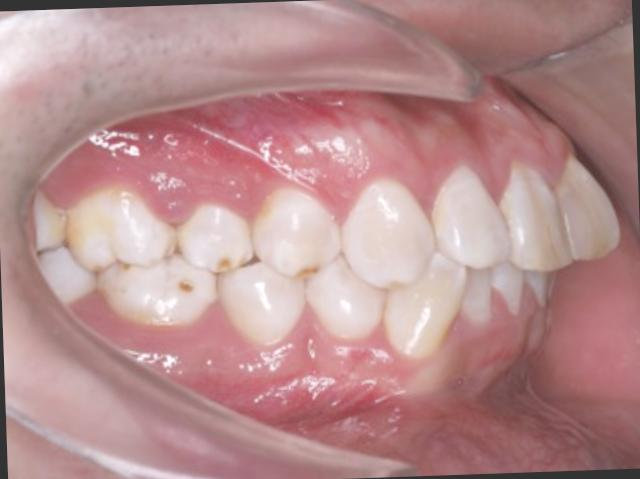canine class I: (300, 162, 472, 372)
molar class III 1/2: (62, 184, 220, 337)
